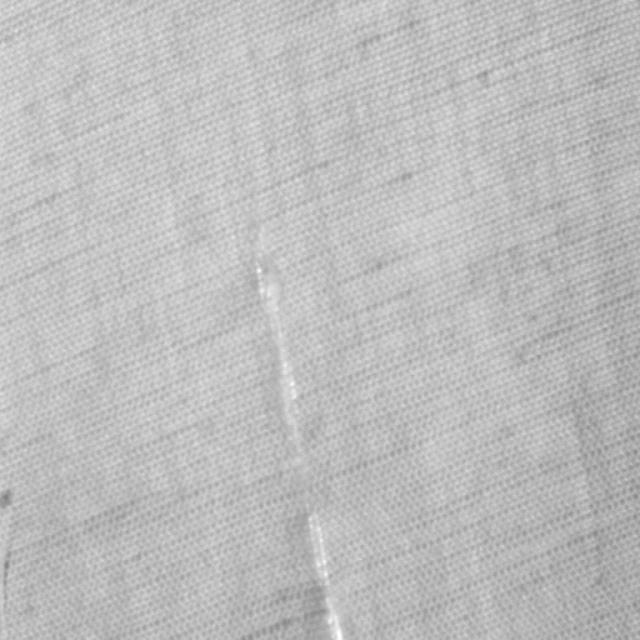thread error: (246, 240, 341, 639)
